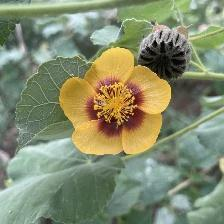indian mallow: (61, 47, 174, 159)
